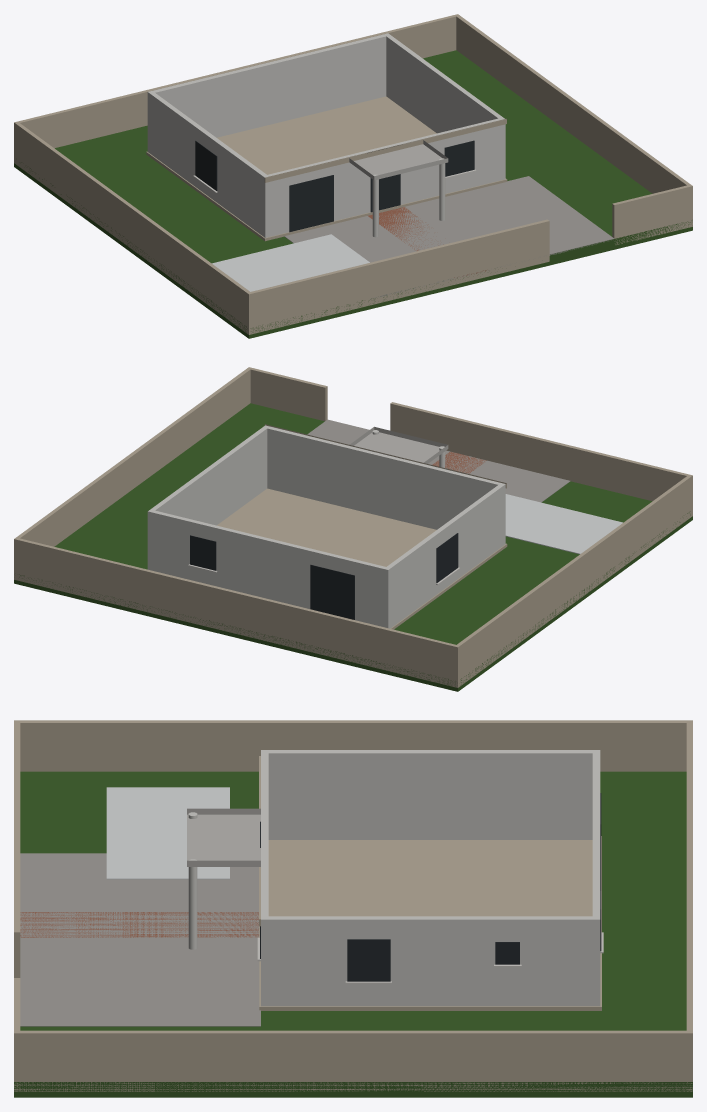
The model's file is bina_12_alt.glb.
3 views of the same model, one above another, from view 1: azimuth 30°, elevation 25°; view 2: azimuth 150°, elevation 25°; view 3: azimuth 270°, elevation 25° (orthographic). The views are drawn at different scales.
Parts seen in each view (by area): view 1: P12_alt; view 2: P12_alt; view 3: P12_alt.
Part boxes in pixels (x1,y1,x2,y2): P12_alt: [14, 14, 692, 338]; P12_alt: [14, 367, 692, 691]; P12_alt: [14, 720, 692, 1097].
Bounding box in the file's own units: 24 × 5.33 × 22.
